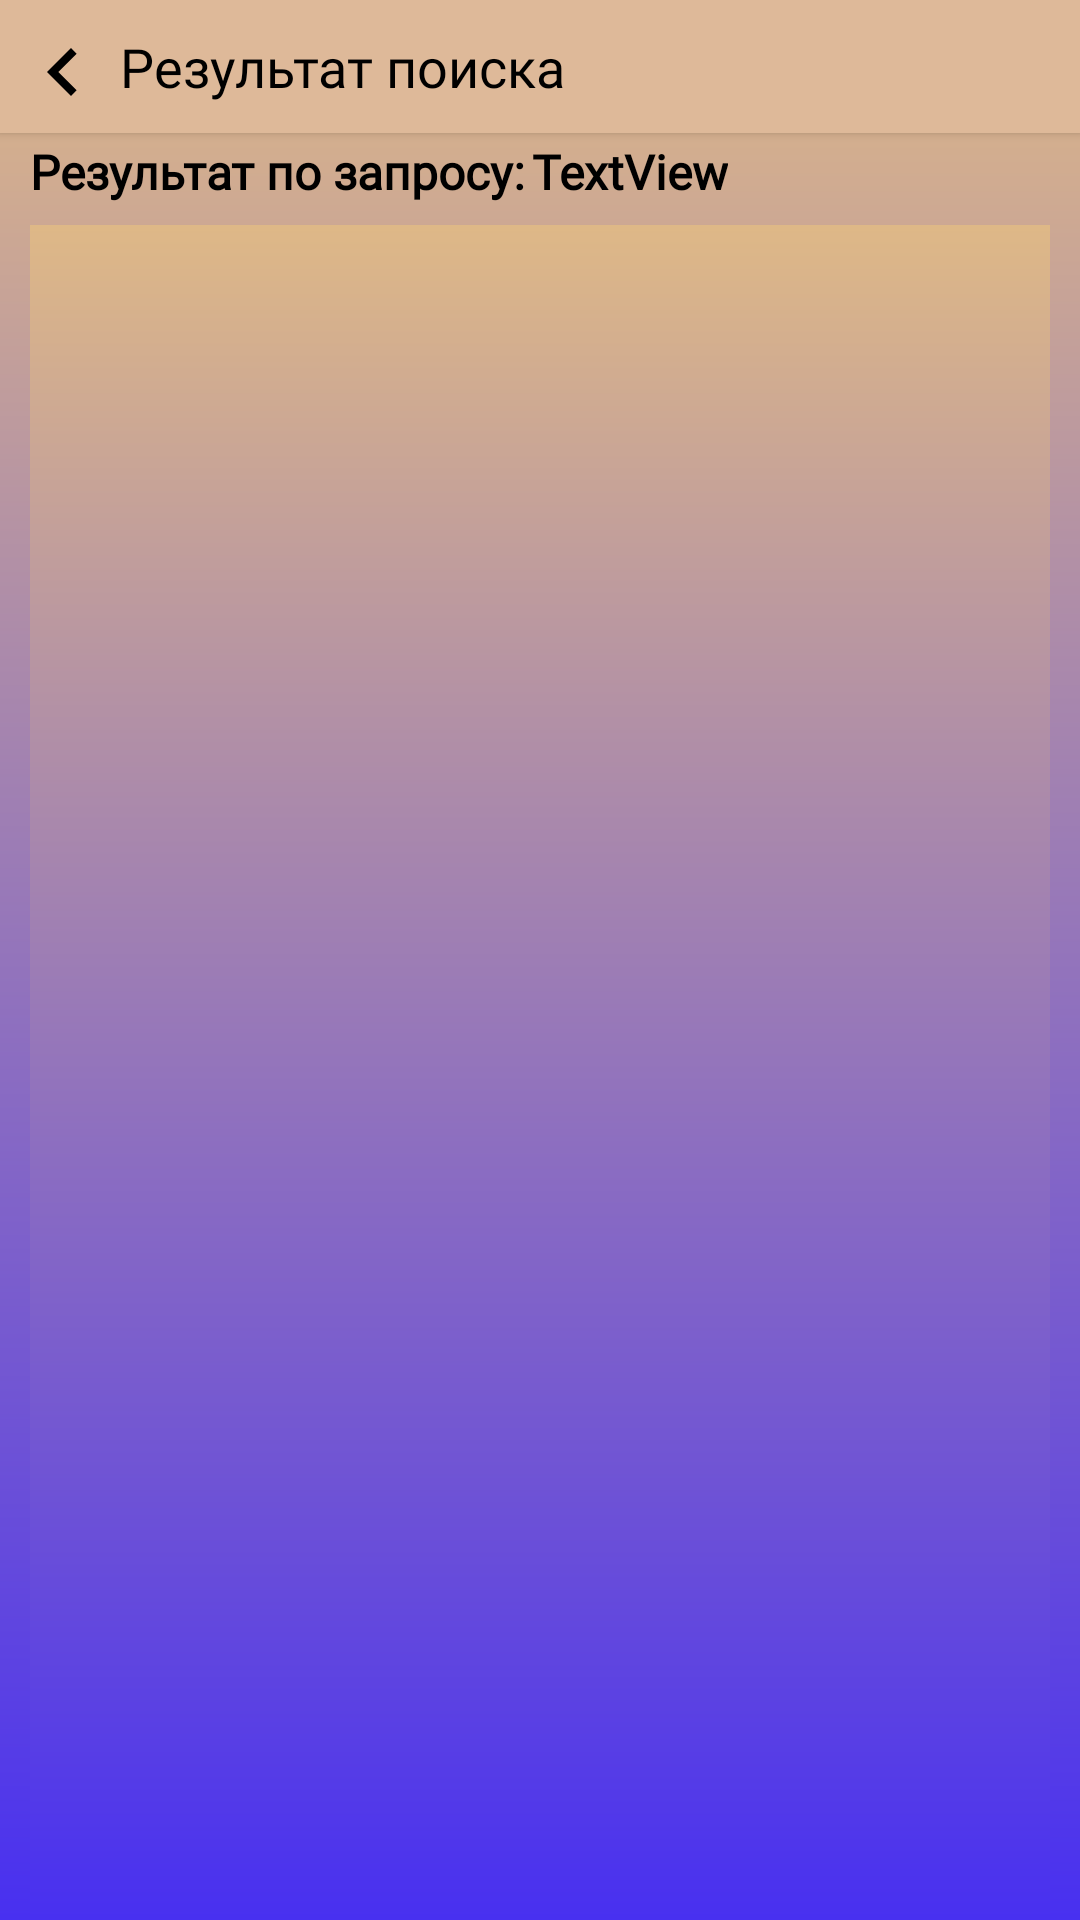

Named icons in this screenshot (1080 × 1920) and their centers, point (x, y):
backbutton: point (62, 72)
